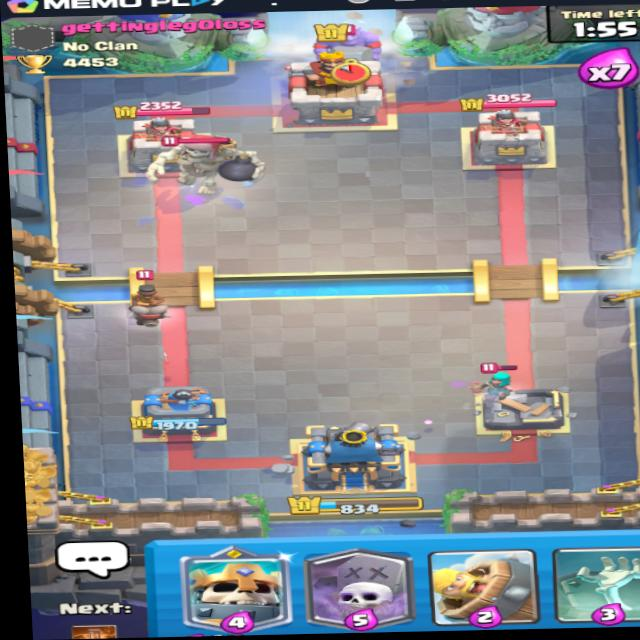bowler: (310, 23, 388, 72)
giant-skeleton: (147, 124, 263, 195)
ram-rider: (106, 264, 181, 326)
rascal-girl: (481, 360, 524, 395)
